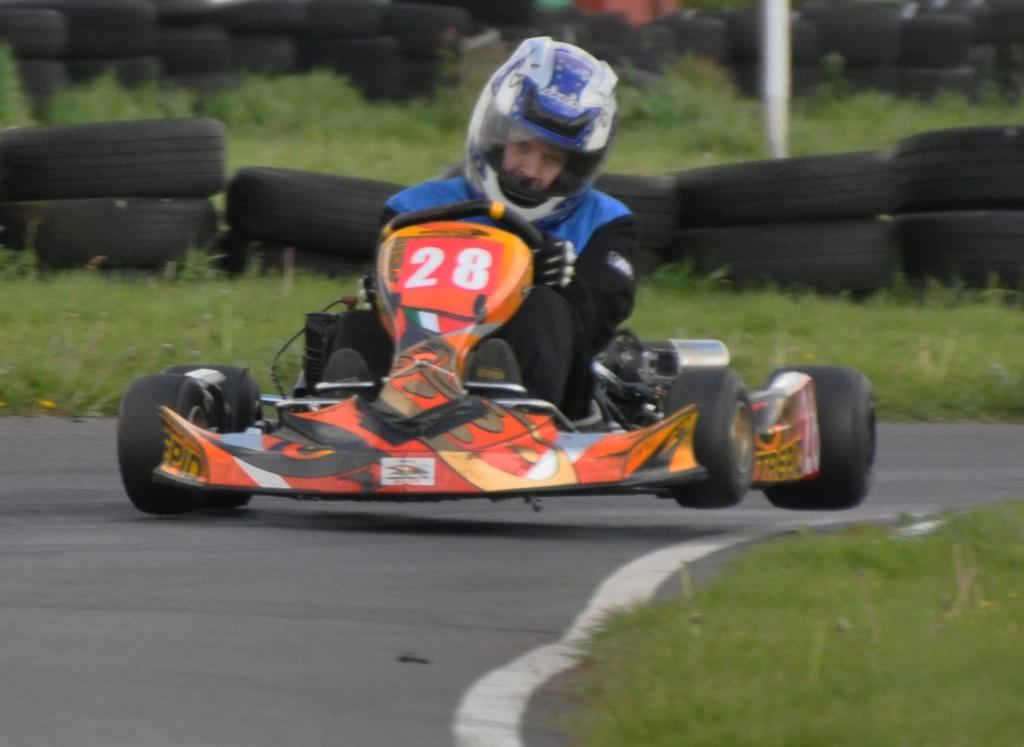helmet: (463, 36, 620, 232)
